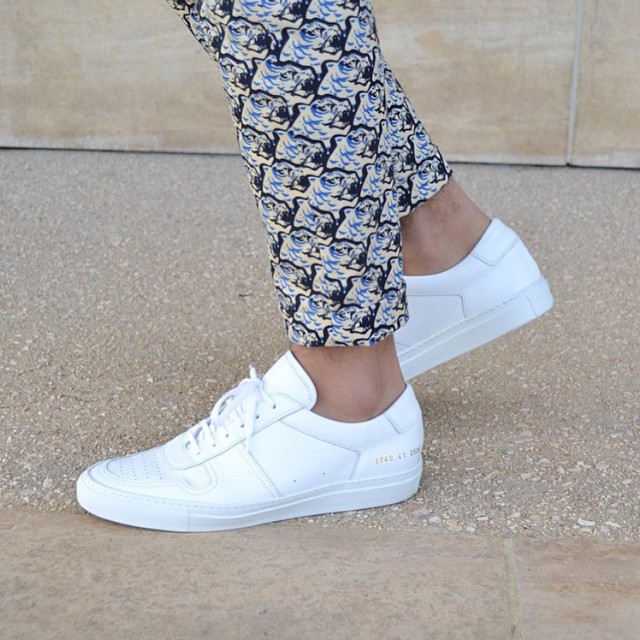sneaker: (55, 316, 457, 554), (371, 160, 568, 401)
